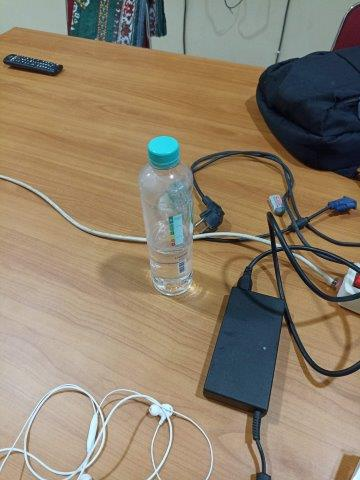botolplastik: (138, 135, 194, 296)
